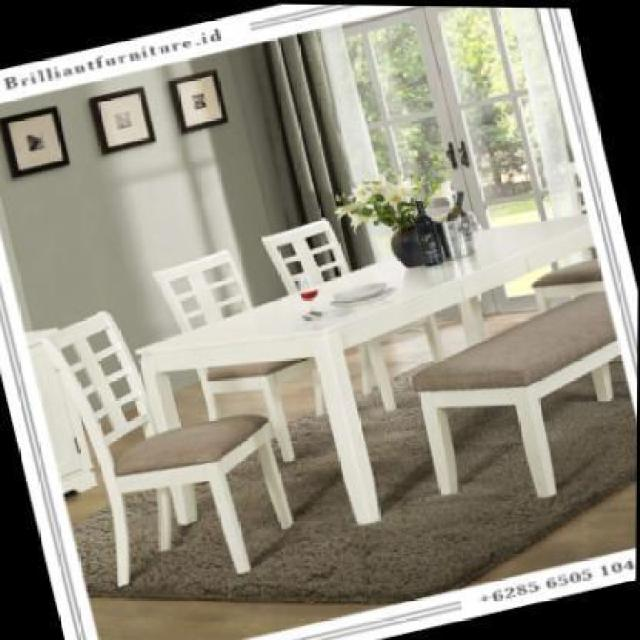tables: (134, 210, 598, 528)
